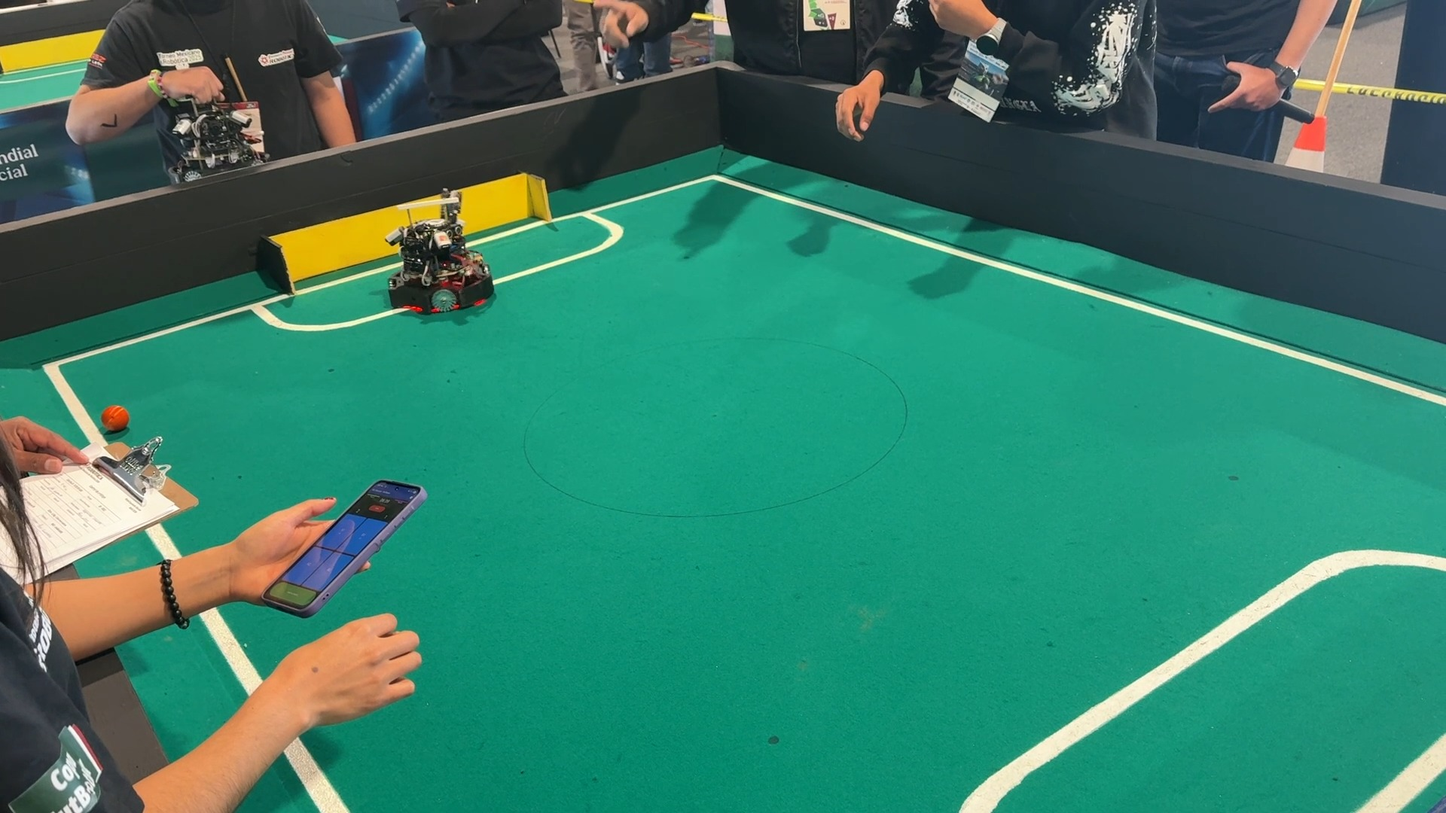Robot: (360, 178, 534, 358), (148, 83, 263, 173)
pelota: (95, 401, 138, 439)
